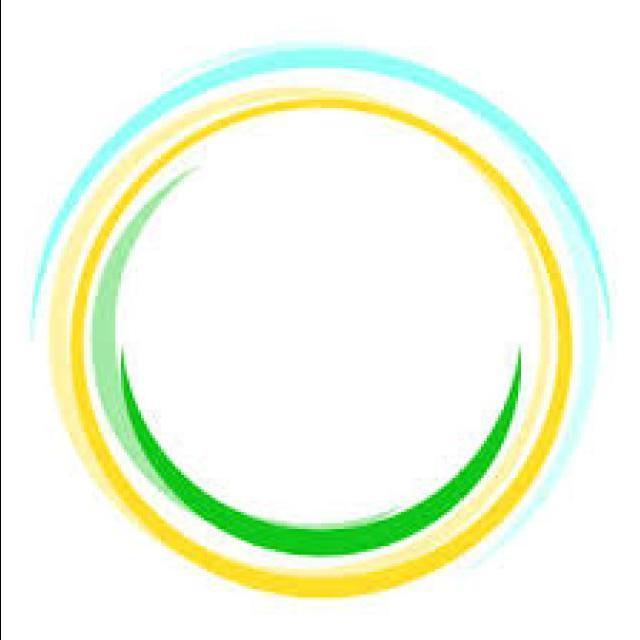Circle: (24, 44, 604, 606)
